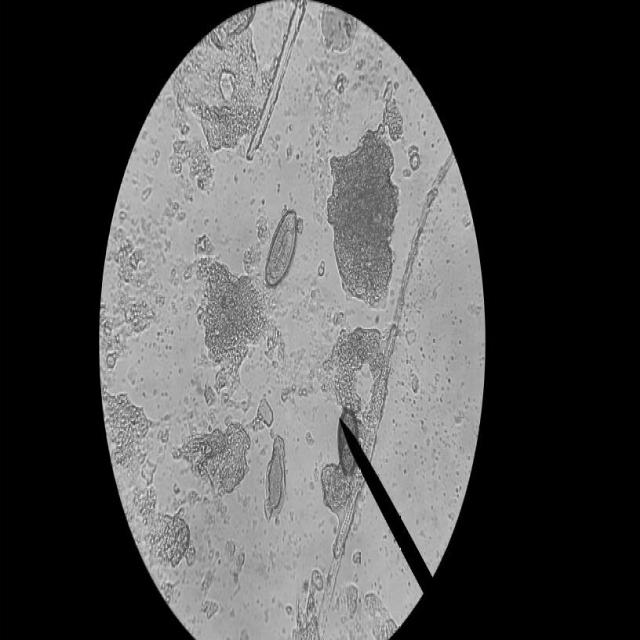Enterobius Vermicularis: (264, 206, 300, 286)
